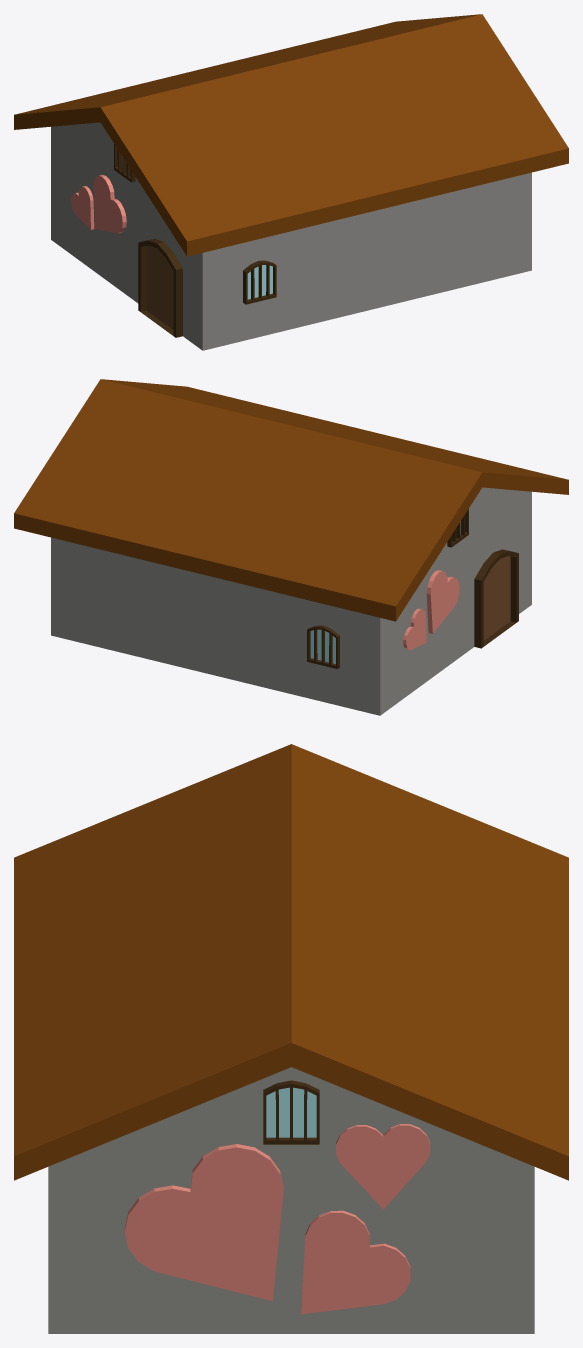
The model's file is Reproduccion.glb.
The picture shows the model from 3 angles, top to bottom: view 1: azimuth 30°, elevation 25°; view 2: azimuth 150°, elevation 25°; view 3: azimuth 270°, elevation 25°; orthographic projection. The views are drawn at different scales.
Visible parts, largest first — view 1: Circle.005; view 2: Circle.005; view 3: Circle.005.
Boxes of the visible parts, x1,y1,x2,y2 form: Circle.005: (14,14,568,350); Circle.005: (14,379,568,715); Circle.005: (14,744,568,1333).
Size of the model in its own units: 11.77 by 5.73 by 9.24.
